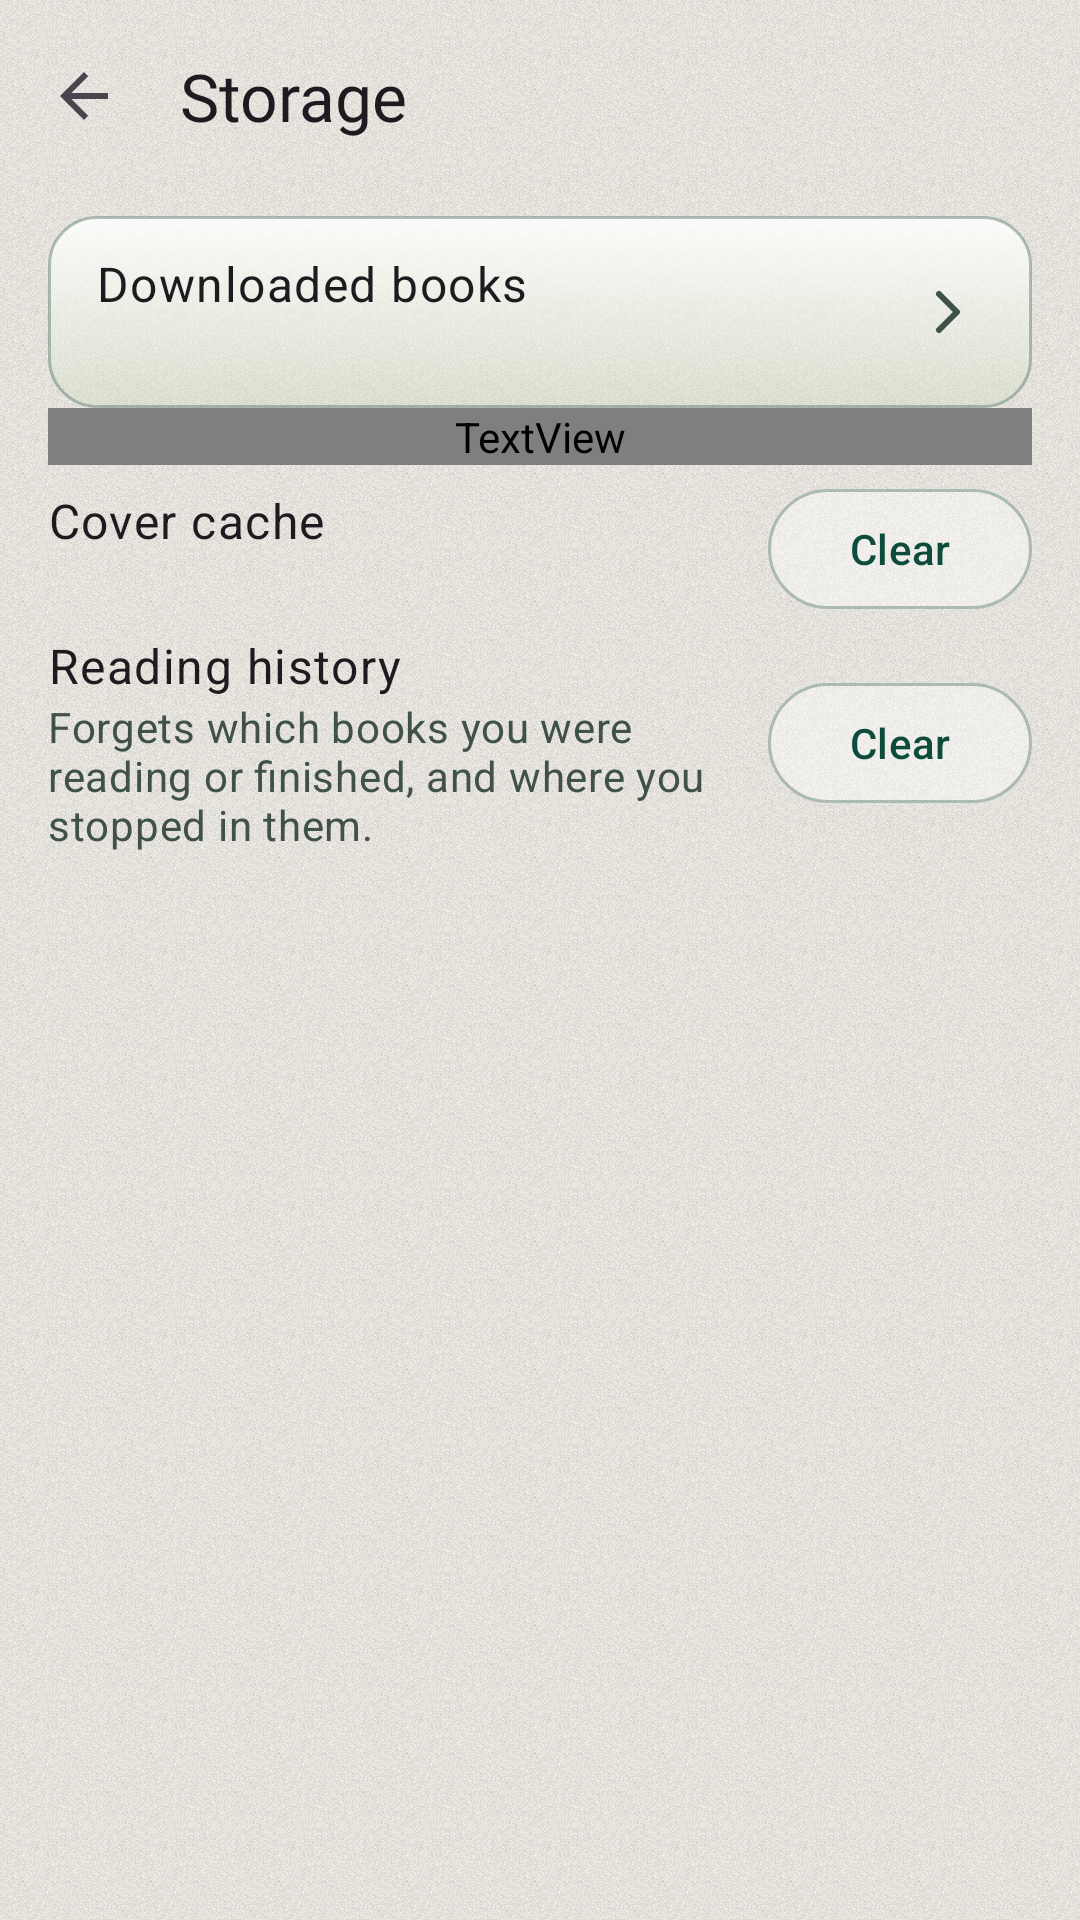

Icons on this 1080px x 1920px Android screen, each with its box as bbox=(x1, y1, x2, y2):
chevron right: bbox=(936, 291, 960, 333)
